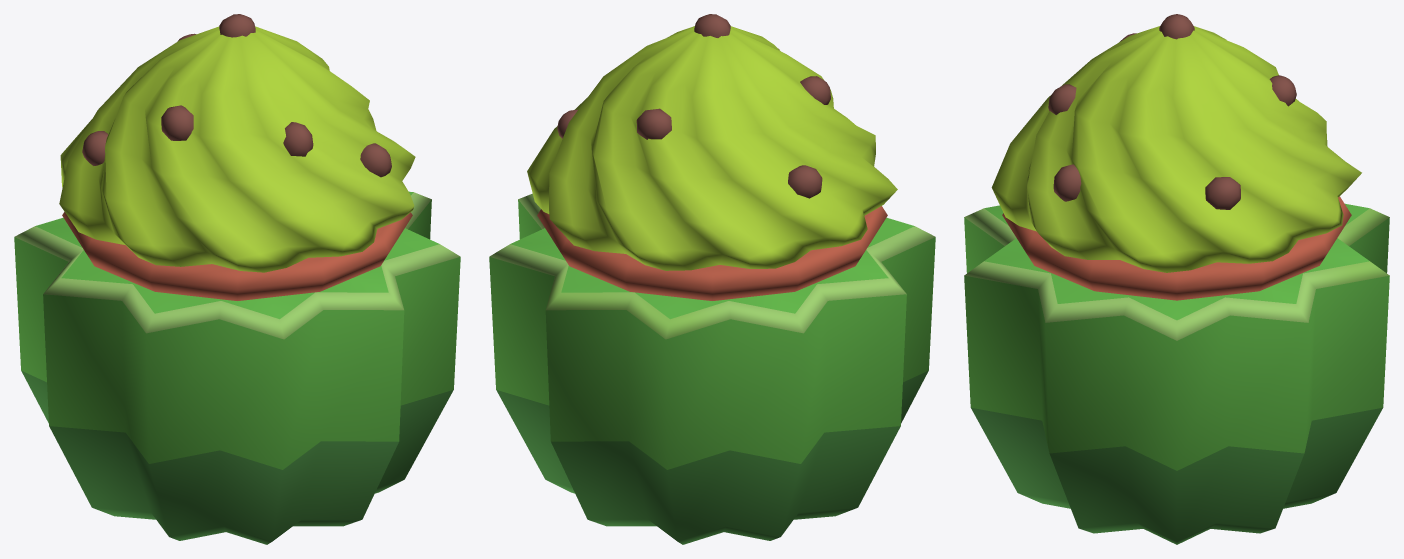
File: IceCreamMatcha.fbx
3 views of the same model, side by side, from view 1: azimuth 30°, elevation 25°; view 2: azimuth 150°, elevation 25°; view 3: azimuth 270°, elevation 25° (orthographic).
Parts seen in each view (by area): view 1: Map02_Kem_LV1; view 2: Map02_Kem_LV1; view 3: Map02_Kem_LV1.
Part boxes in pixels (x1,y1,x2,y2): Map02_Kem_LV1: (14,14,460,544); Map02_Kem_LV1: (489,14,935,544); Map02_Kem_LV1: (964,14,1389,544).
Bounding box in the file's own units: 56.14 × 64.89 × 53.4.
